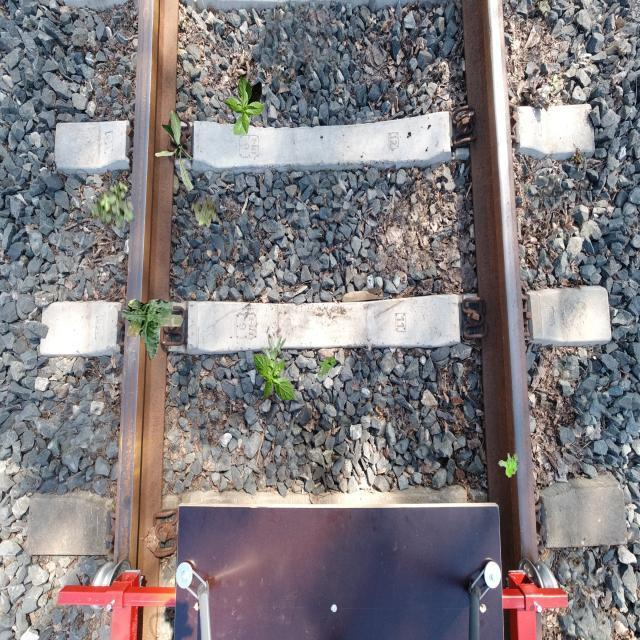Plant: (121, 299, 184, 361), (155, 109, 195, 192), (223, 76, 265, 136), (254, 349, 296, 402), (91, 180, 134, 230), (261, 335, 288, 377), (191, 197, 217, 229), (498, 453, 518, 478), (317, 354, 336, 378)
